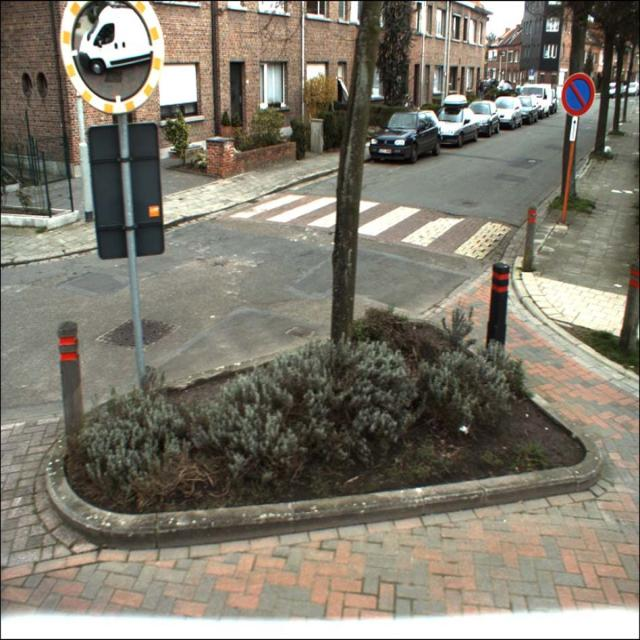parkyasak: (561, 73, 595, 116)
